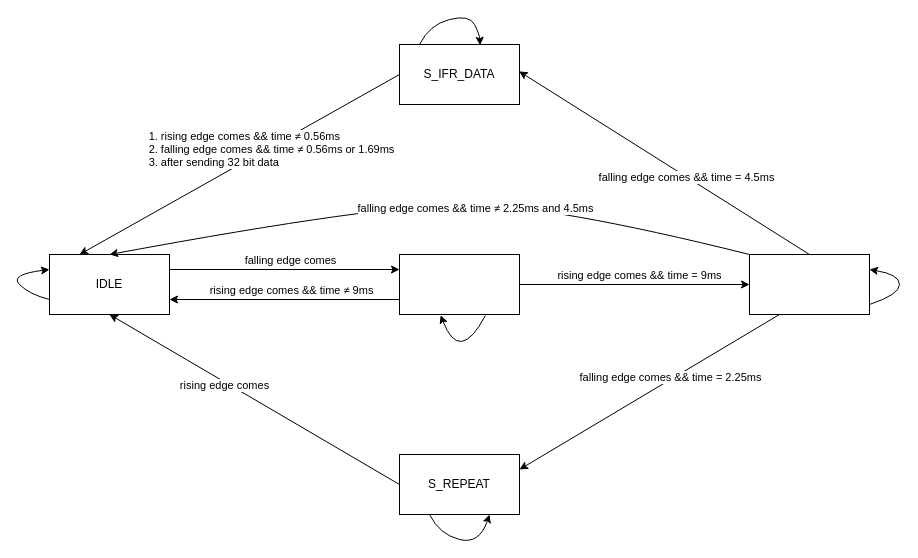
Some shapes in this 918 by 558 pixel diagram are drawn without their labels. Here are the shapes that lost their labels. From the top down, the centre of each, then its label:
the point at 459,284: S_T9
the point at 809,284: S_JUDGE
